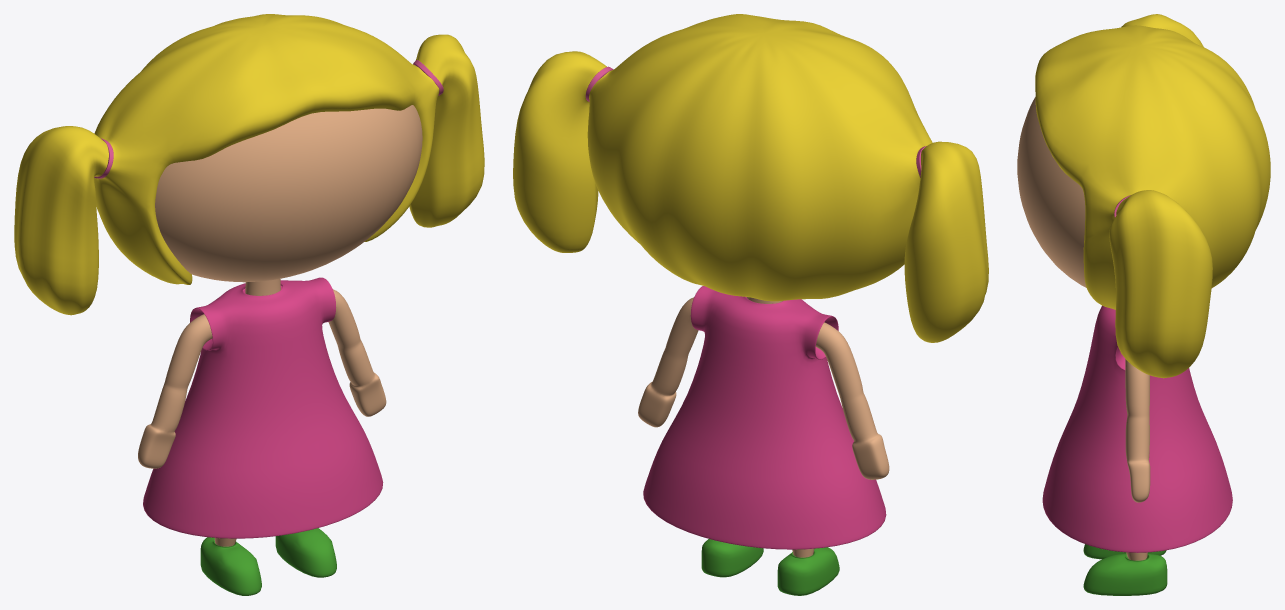
The model's file is Girl.fbx.
3 views of the same model, side by side, from view 1: azimuth 30°, elevation 25°; view 2: azimuth 150°, elevation 25°; view 3: azimuth 270°, elevation 25° (orthographic). The views are drawn at different scales.
Visible parts, largest first — view 1: Hair, Dress, Head, Arms, Shoes; view 2: Hair, Dress, Arms, Shoes; view 3: Hair, Dress, Head, Shoes, Arms.
Part boxes in pixels (x1,y1,x2,y2): Hair: (14,14,484,315); Dress: (143,277,383,538); Head: (155,105,422,295); Arms: (138,289,386,468); Shoes: (200,528,336,595); Hair: (513,14,988,342); Dress: (643,286,886,549); Arms: (638,297,889,479); Shoes: (701,539,839,595); Hair: (1035,14,1270,378); Dress: (1042,305,1232,552); Head: (1017,97,1086,287); Shoes: (1083,544,1167,595); Arms: (1125,359,1150,502).
Bounding box in the file's own units: 1111 × 1245 × 545.
